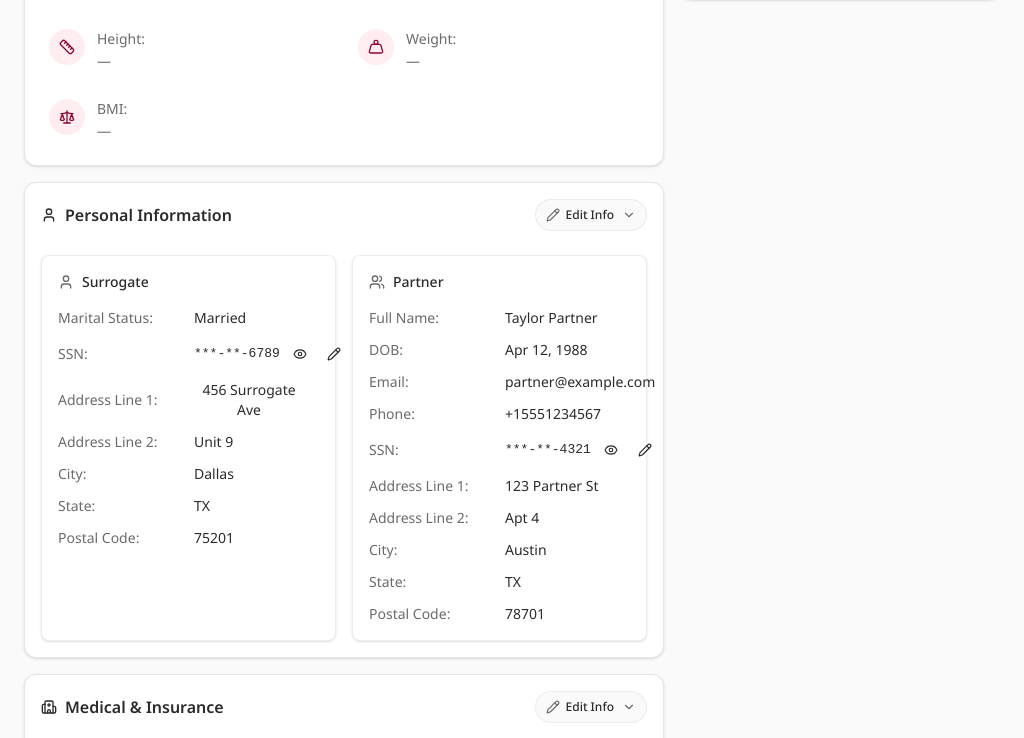
Scenario: SurrogateDetailPage › shows masked personal information and reveals SSN at Pending-DocuSign
(page scrolled)
Expected: the text "Personal Information" is shown, [41,203,232,227]
Expected: the heading "Surrogate" is shown, [58,272,149,291]
Click the button named "Reveal surrogate SSN" at {"x": 300, "y": 354}, box [286,340,314,368]
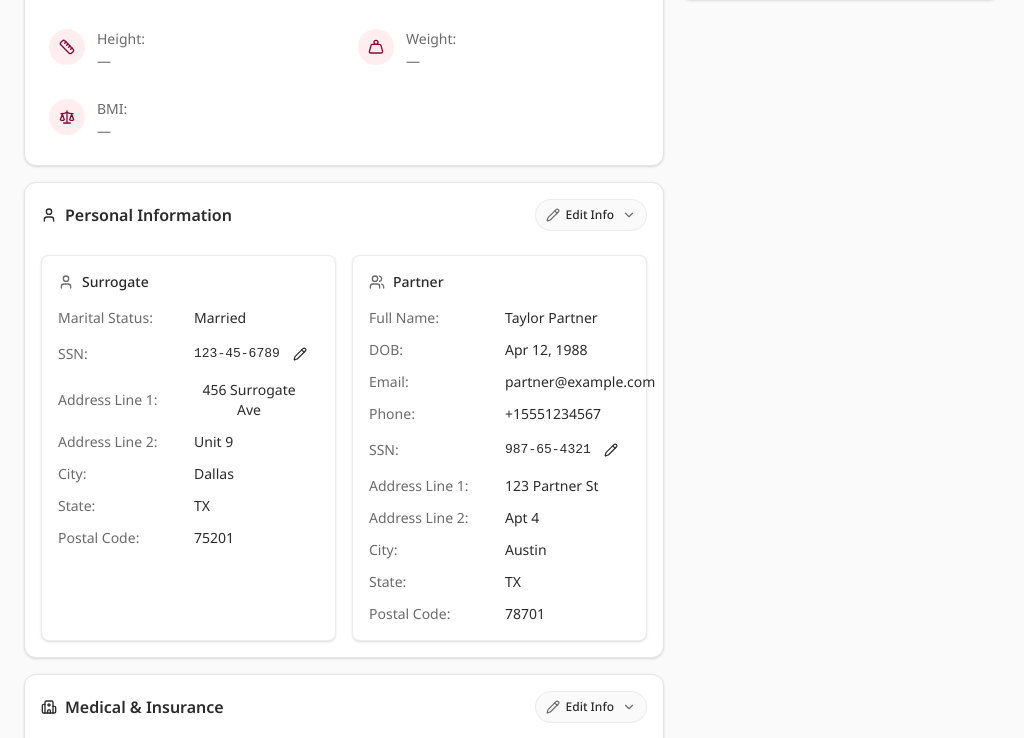
Expected: the text "123-45-6789" is shown, [194,345,280,363]
Expected: the text "987-65-4321" is shown, [505,441,591,459]
